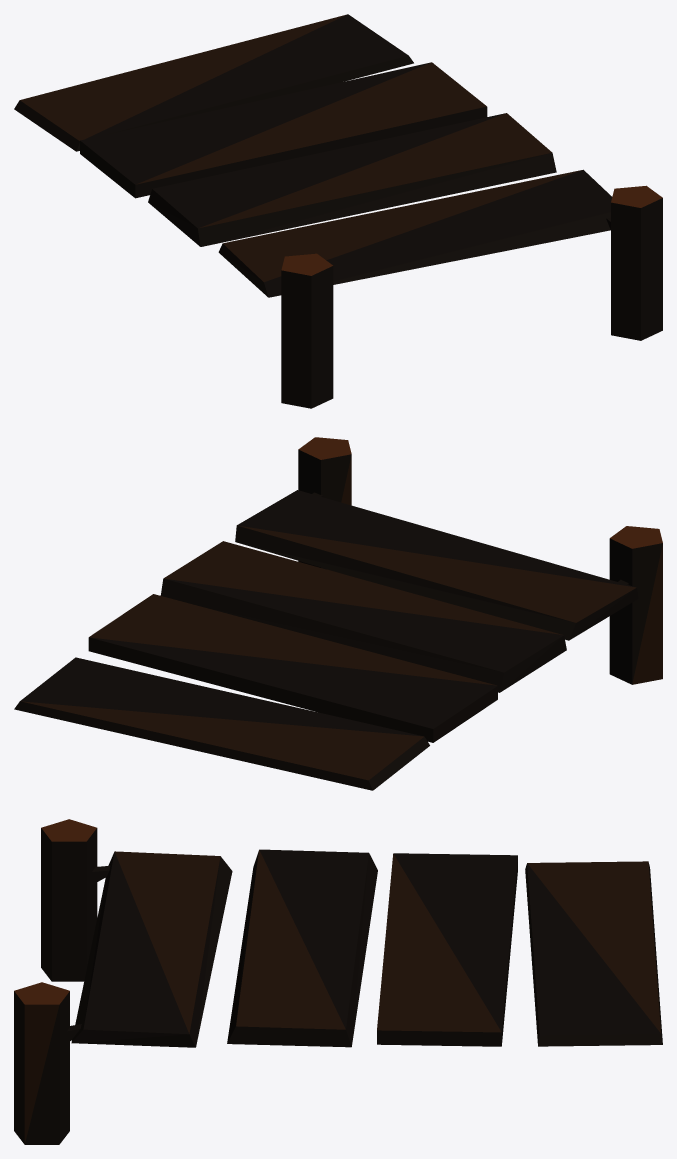
The model's file is Bridge_1_start_end.fbx.
3 views of the same model, one above another, from view 1: azimuth 30°, elevation 25°; view 2: azimuth 150°, elevation 25°; view 3: azimuth 270°, elevation 25° (orthographic). The views are drawn at different scales.
Parts seen in each view (by area): view 1: Bridge_1_start_end; view 2: Bridge_1_start_end; view 3: Bridge_1_start_end.
Part boxes in pixels (x1,y1,x2,y2): Bridge_1_start_end: (14, 14, 662, 408); Bridge_1_start_end: (14, 437, 662, 790); Bridge_1_start_end: (14, 819, 662, 1144).
Size of the model in its own units: 193 by 67.77 by 285.
